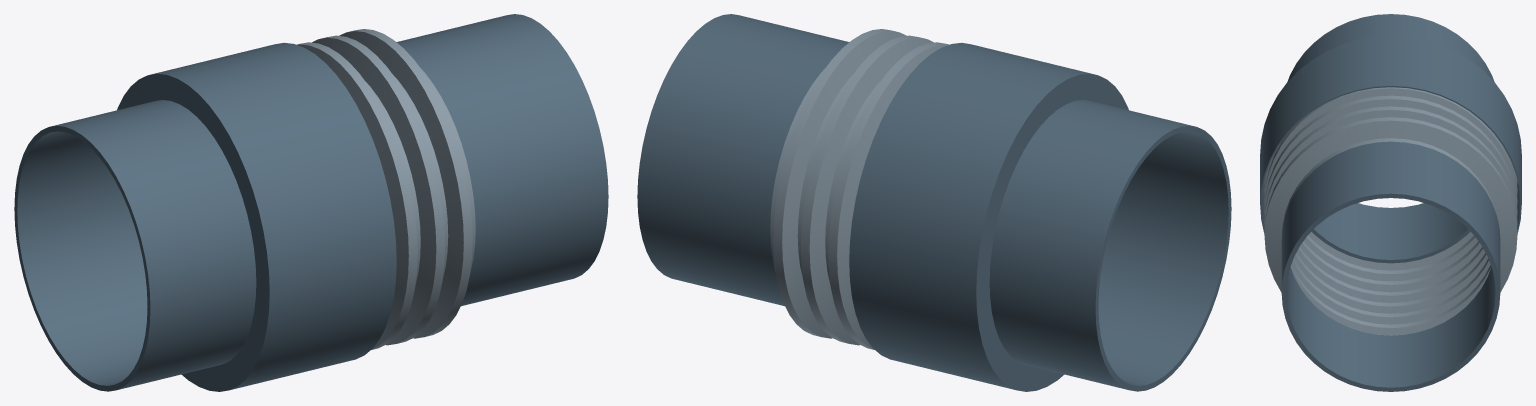
File: silf-dn300-L632-D325-k-o371.glb
3 views of the same model, side by side, from view 1: azimuth 30°, elevation 25°; view 2: azimuth 150°, elevation 25°; view 3: azimuth 270°, elevation 25° (orthographic). The views are drawn at different scales.
Parts seen in each view (by area): view 1: patrubok_1, osnovanie_kozhuh_1, patrubok_2, prokladka_silfon_1; view 2: patrubok_1, osnovanie_kozhuh_1, patrubok_2, prokladka_silfon_1; view 3: prokladka_silfon_1, patrubok_2, osnovanie_kozhuh_1, patrubok_1.
Part boxes in pixels (<box>): patrubok_1: <box>14,100,256,391</box>; osnovanie_kozhuh_1: <box>117,42,396,391</box>; patrubok_2: <box>396,14,608,306</box>; prokladka_silfon_1: <box>297,29,475,349</box>; patrubok_1: <box>989,100,1231,391</box>; osnovanie_kozhuh_1: <box>849,42,1128,391</box>; patrubok_2: <box>637,14,849,306</box>; prokladka_silfon_1: <box>770,29,948,349</box>; prokladka_silfon_1: <box>1264,87,1517,335</box>; patrubok_2: <box>1281,141,1500,391</box>; osnovanie_kozhuh_1: <box>1260,36,1521,232</box>; patrubok_1: <box>1287,14,1494,263</box>.
Bounding box in the file's own units: 632 × 389 × 389.
